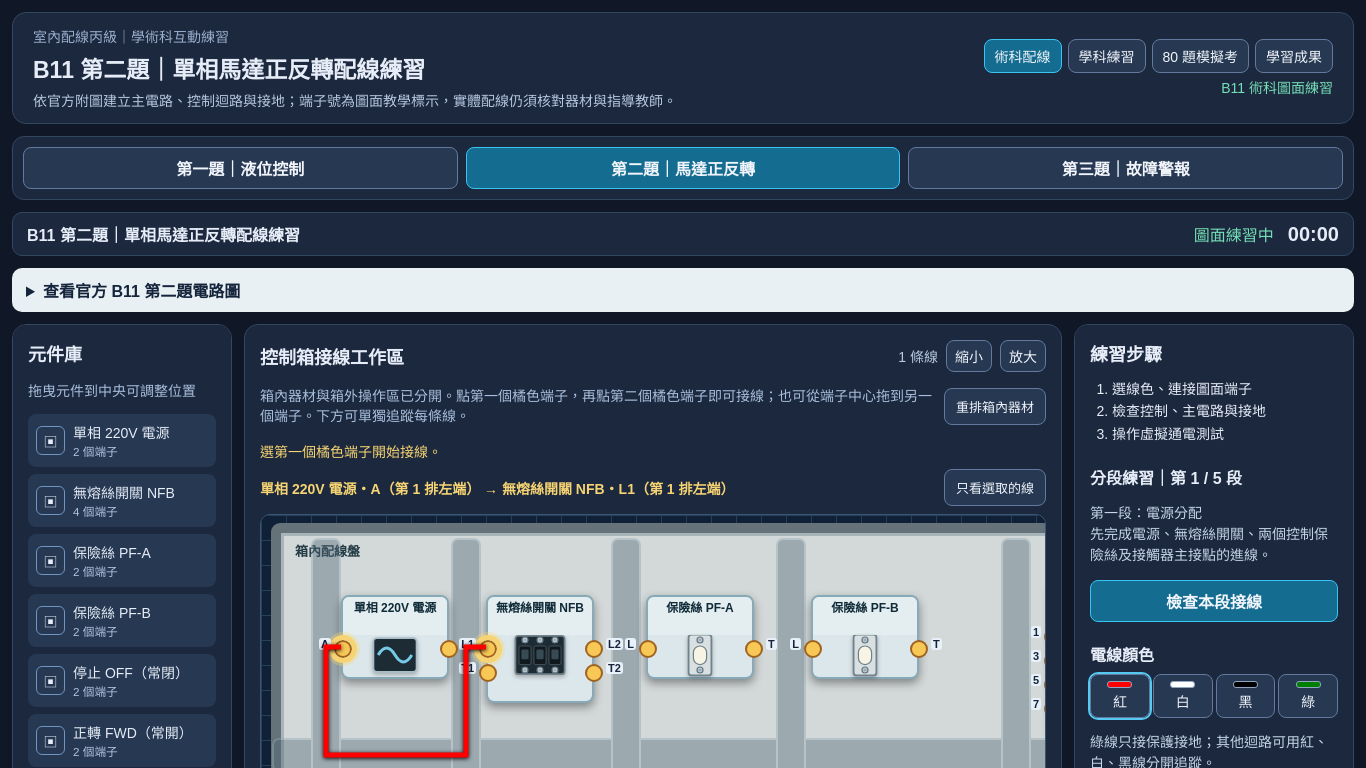
Test: B11 practice screen › resumes the theory quiz after switching views and saves a completed attempt
Earlier steps of the test are not shown.
Later steps or results of the test are not shown.
Click the button "學科練習" at point(1106, 56), box [1068,39,1146,73]
(page scrolled)
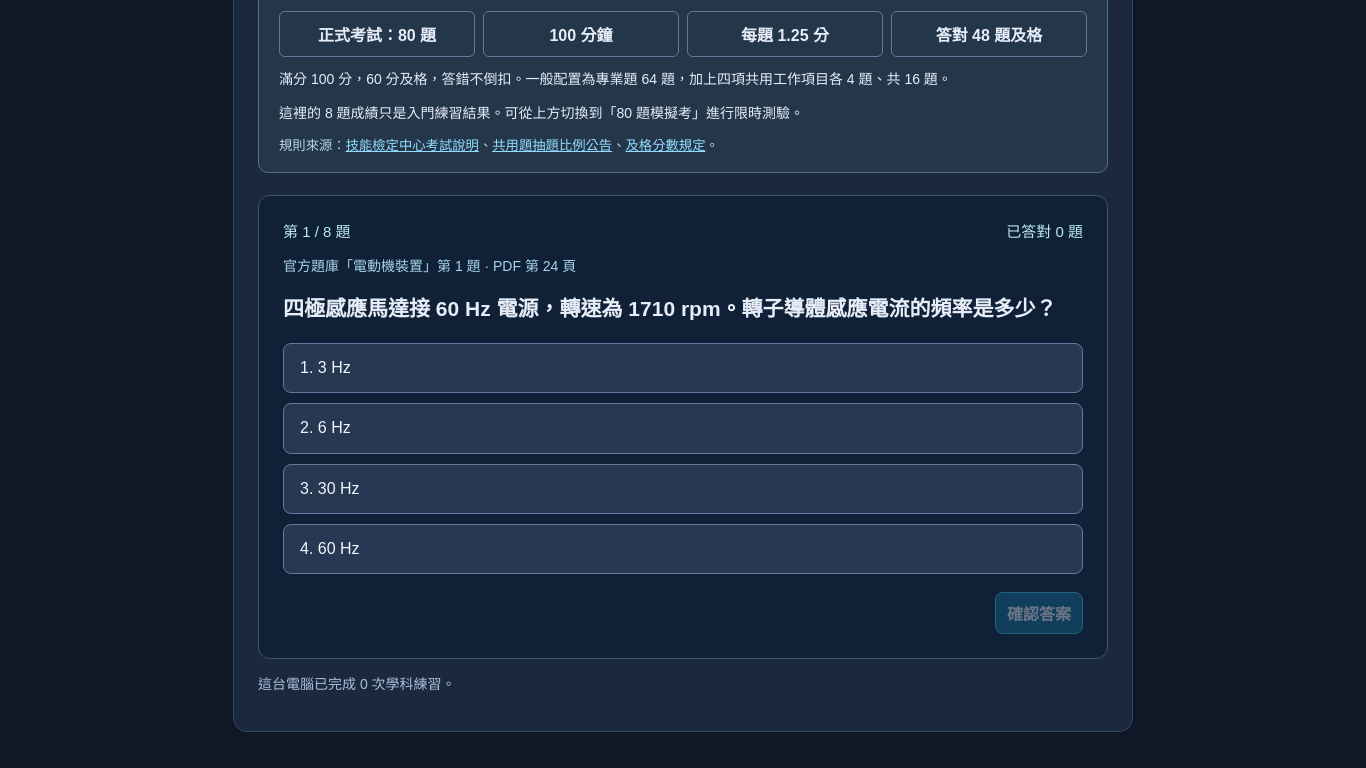
Expected: the text "正式考試：80 題" is shown, [279,11,475,57]
Expected: the text "100 分鐘" is shown, [483,11,679,57]
Expected: the text "答對 48 題及格" is shown, [891,11,1087,57]
Click the button "2. 6 Hz" at point(334, 428), box [283,403,1083,454]
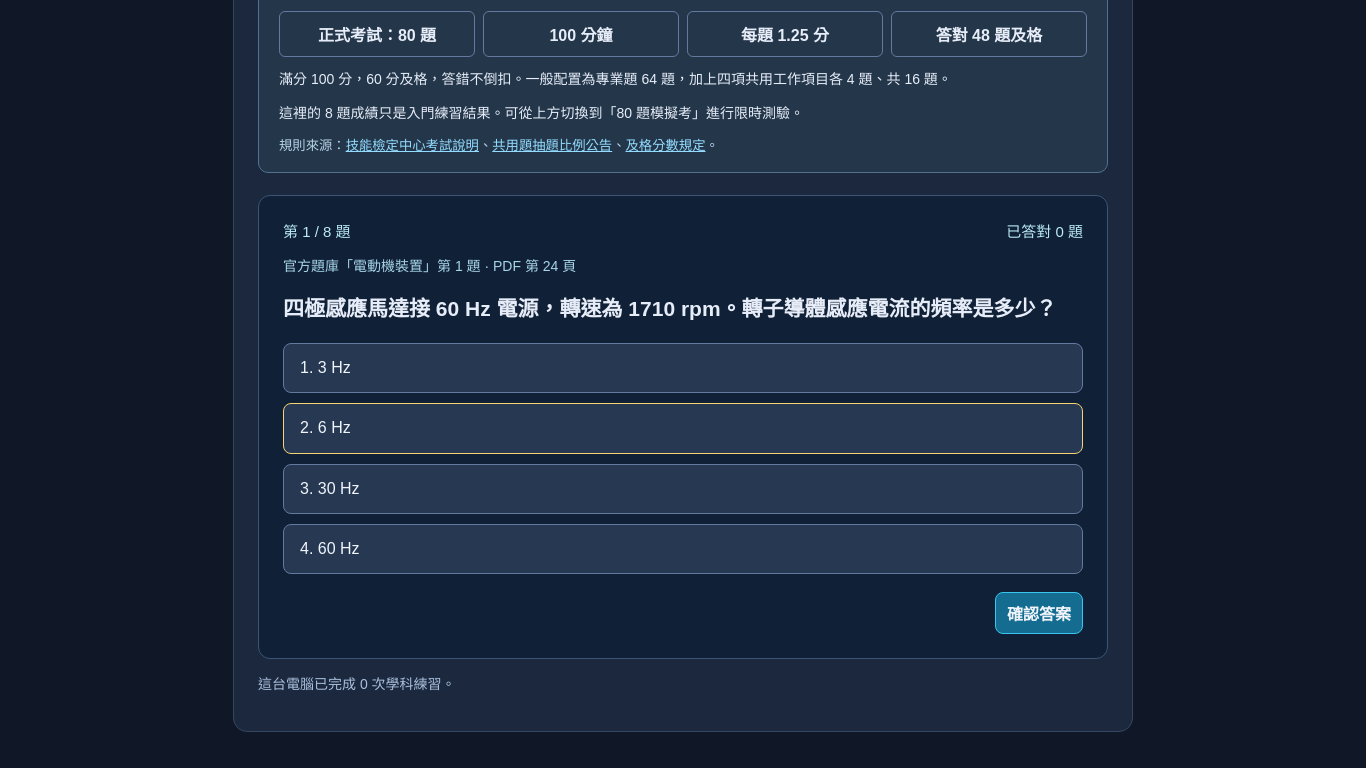
Click the button "確認答案" at point(1039, 613), box [995,592,1083,634]
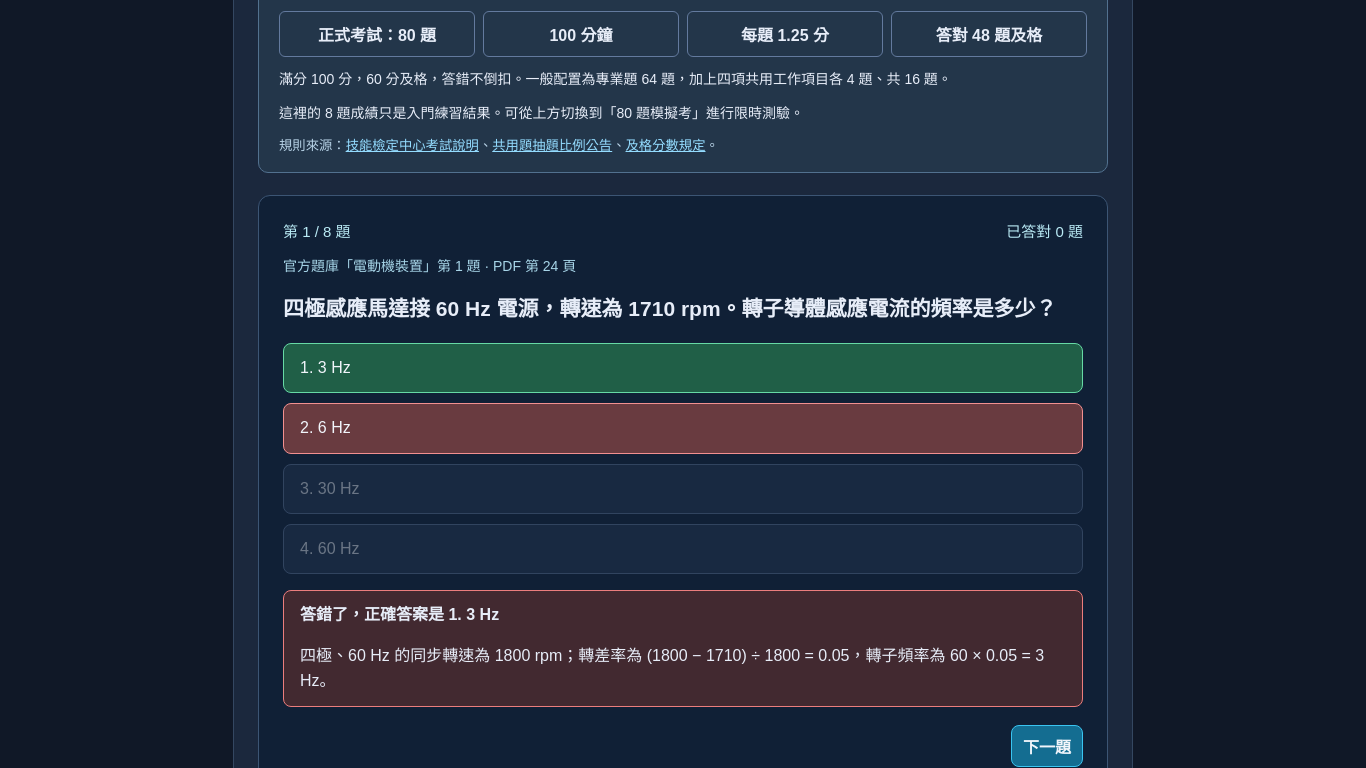
Click the button "下一題" at point(1047, 746), box [1011,725,1083,767]
(page scrolled)
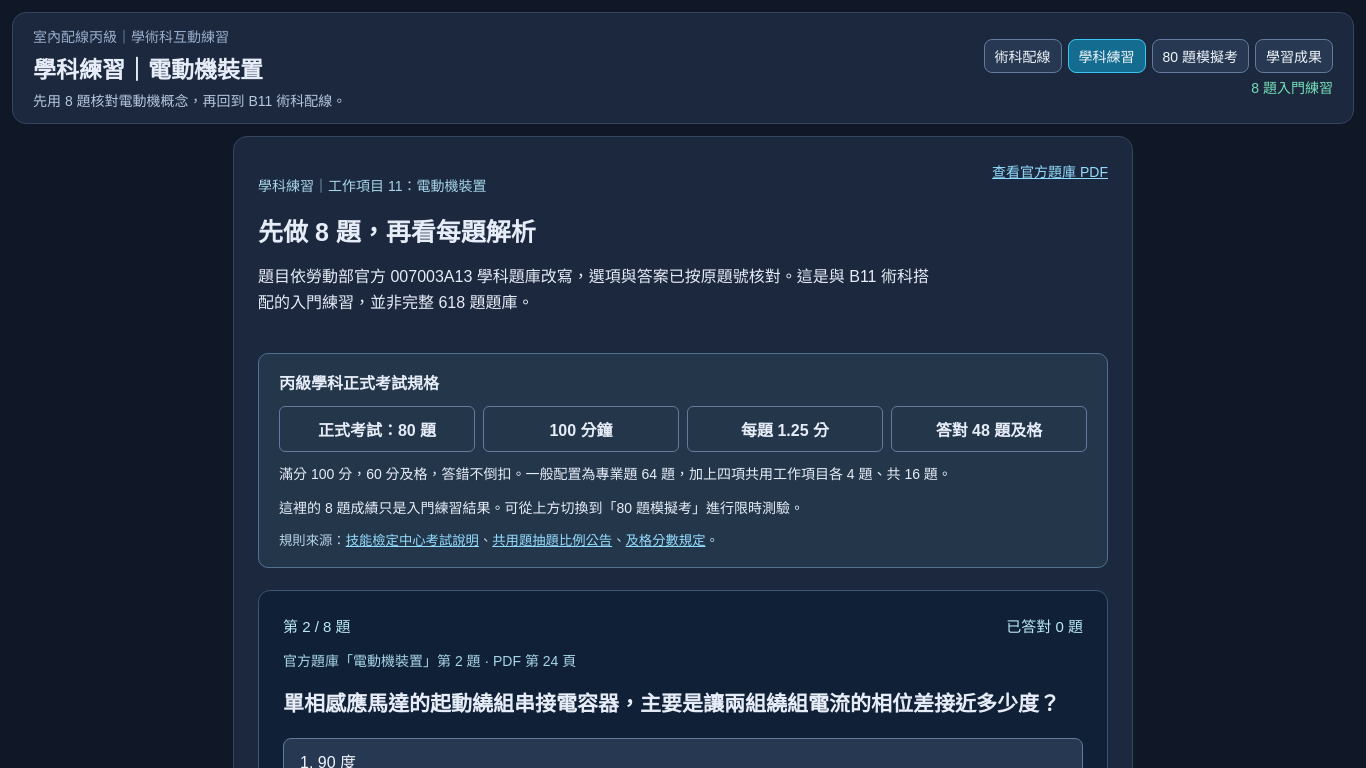
Click the button "術科配線" at point(1022, 56), box [984,39,1062,73]
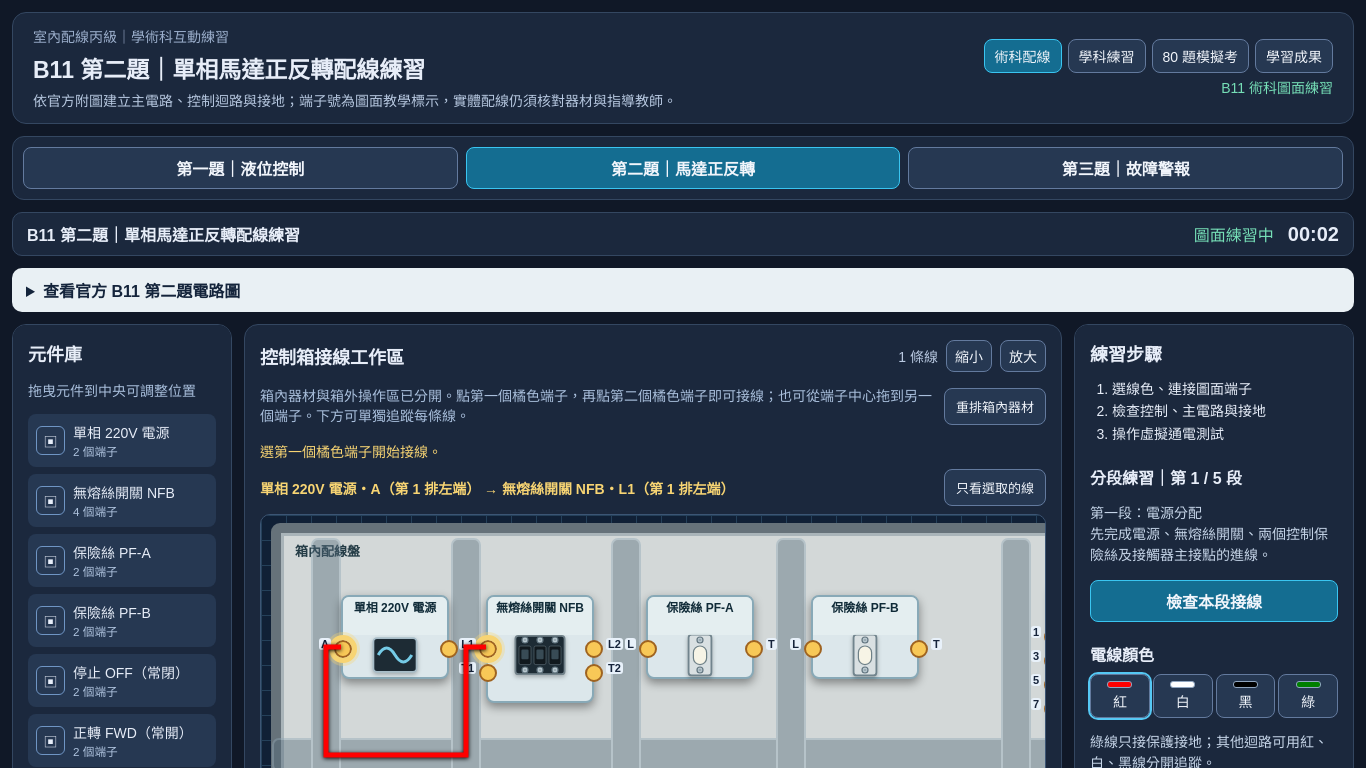
Expected: the text "1 條線" is shown, [898,346,938,366]
Click the button "學科練習" at point(1106, 56), box [1068,39,1146,73]
(page scrolled)
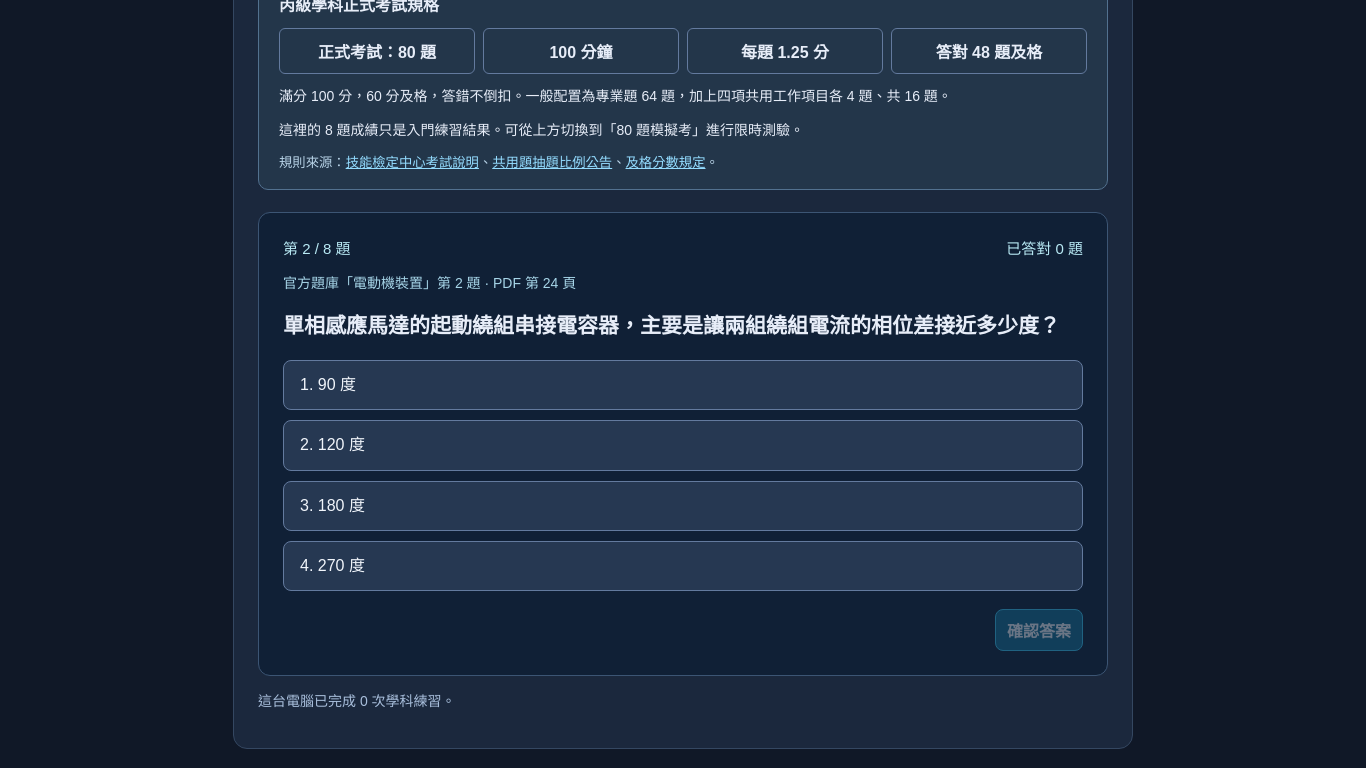
Expected: the text "第 2 / 8 題" is shown, [283,237,350,258]
